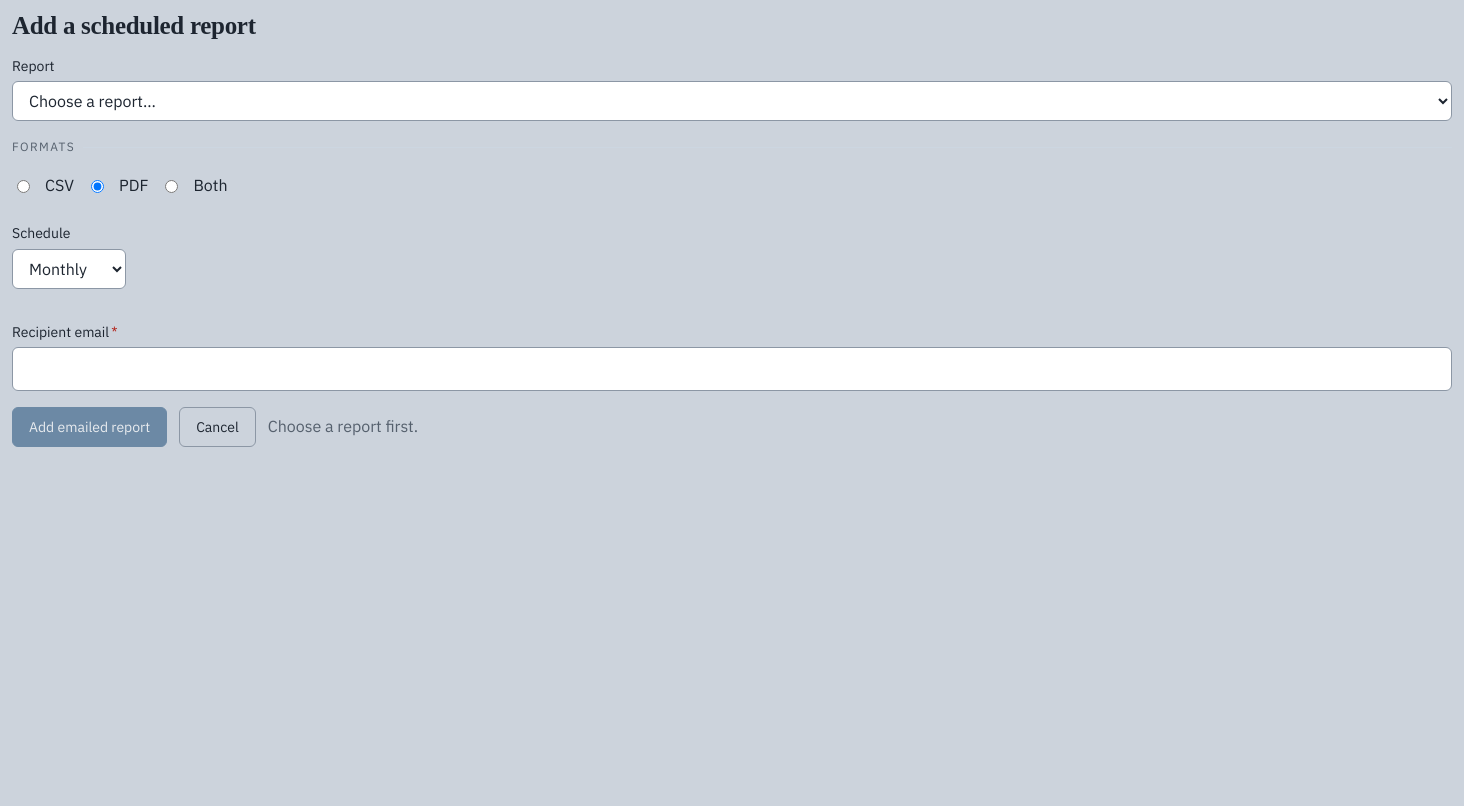
Test: SubscriptionForm › drops the hint once a report is chosen
Select "Members" in the dropdown labelled "Report" at (732, 101), box [12,81,1452,121]
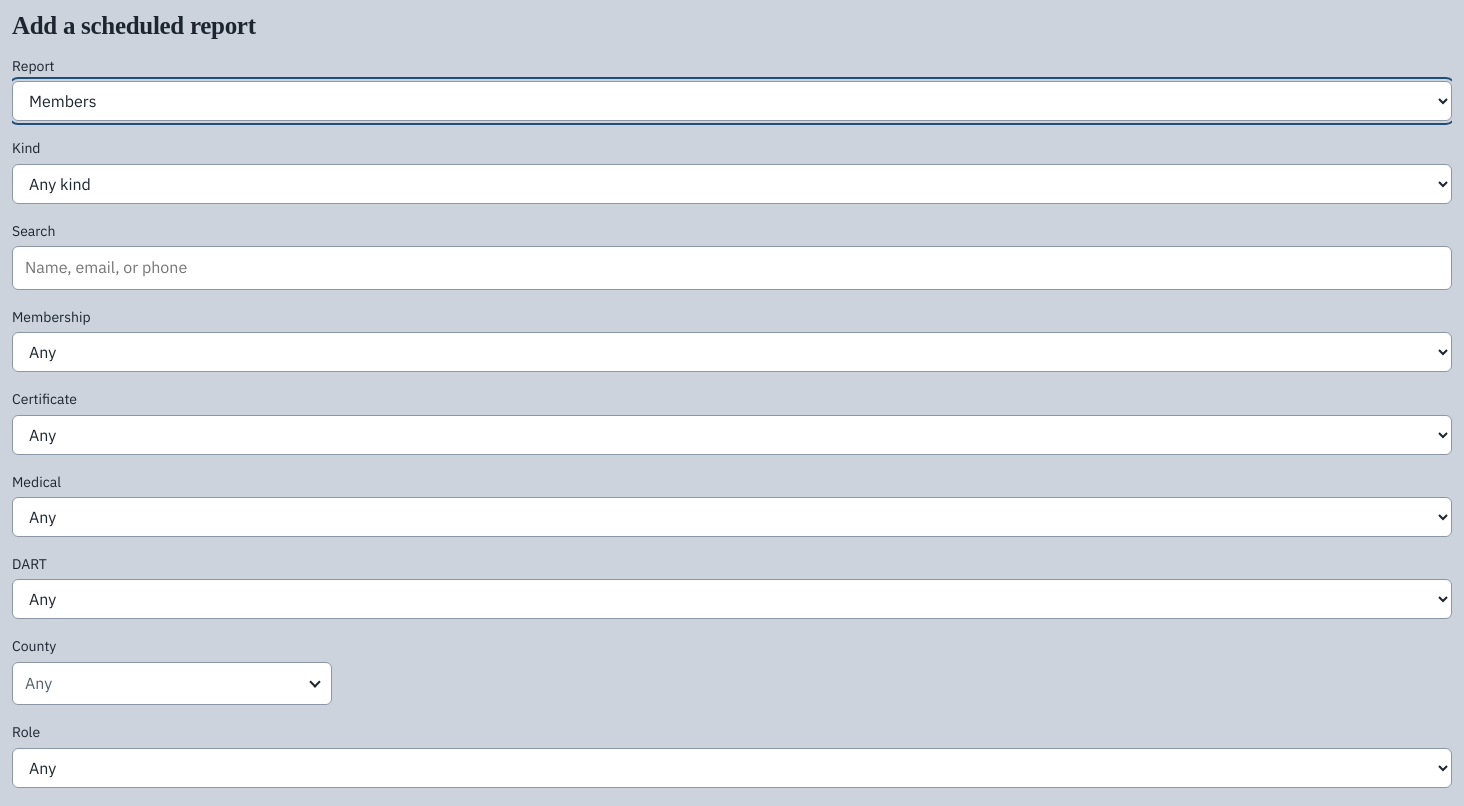
Now the text "Choose a report first." is gone
